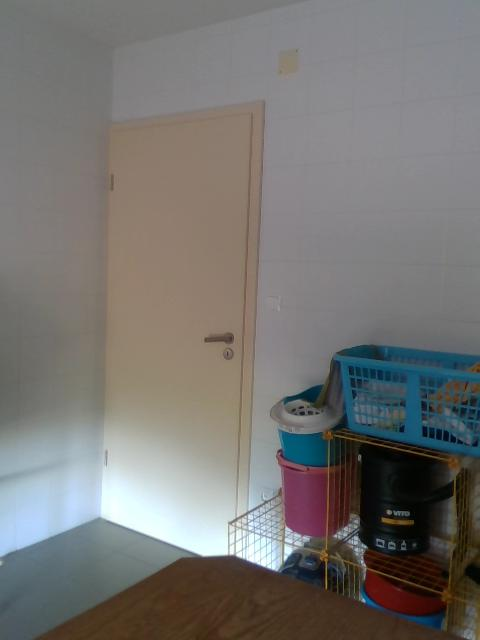door: (106, 113, 251, 553)
